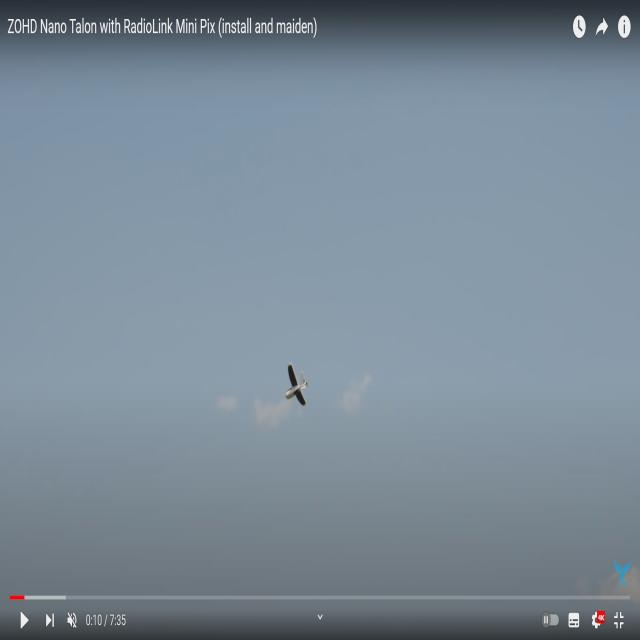iha: (285, 365, 308, 406)
